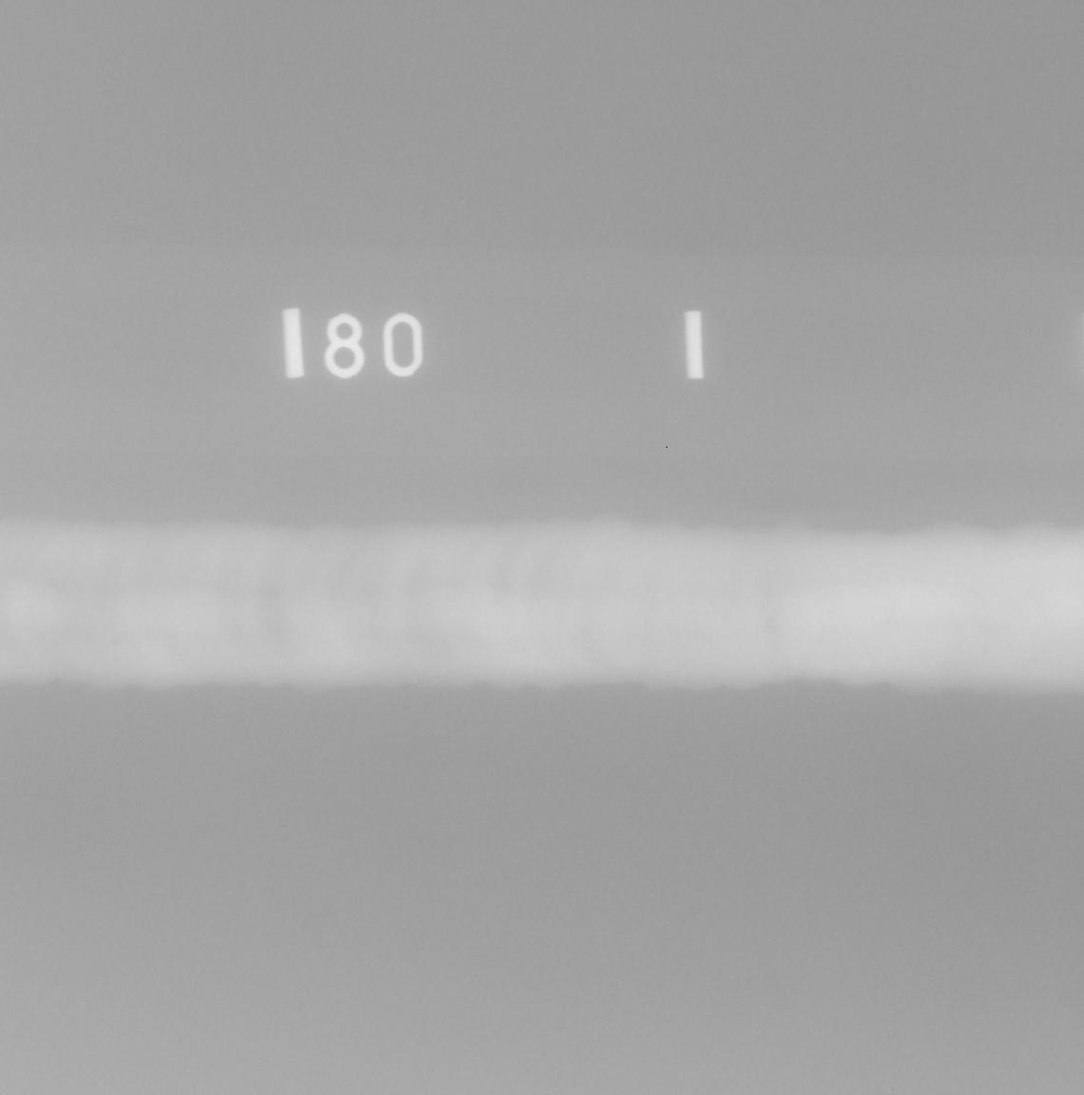Pore/Porosity: (111, 641, 116, 646)
